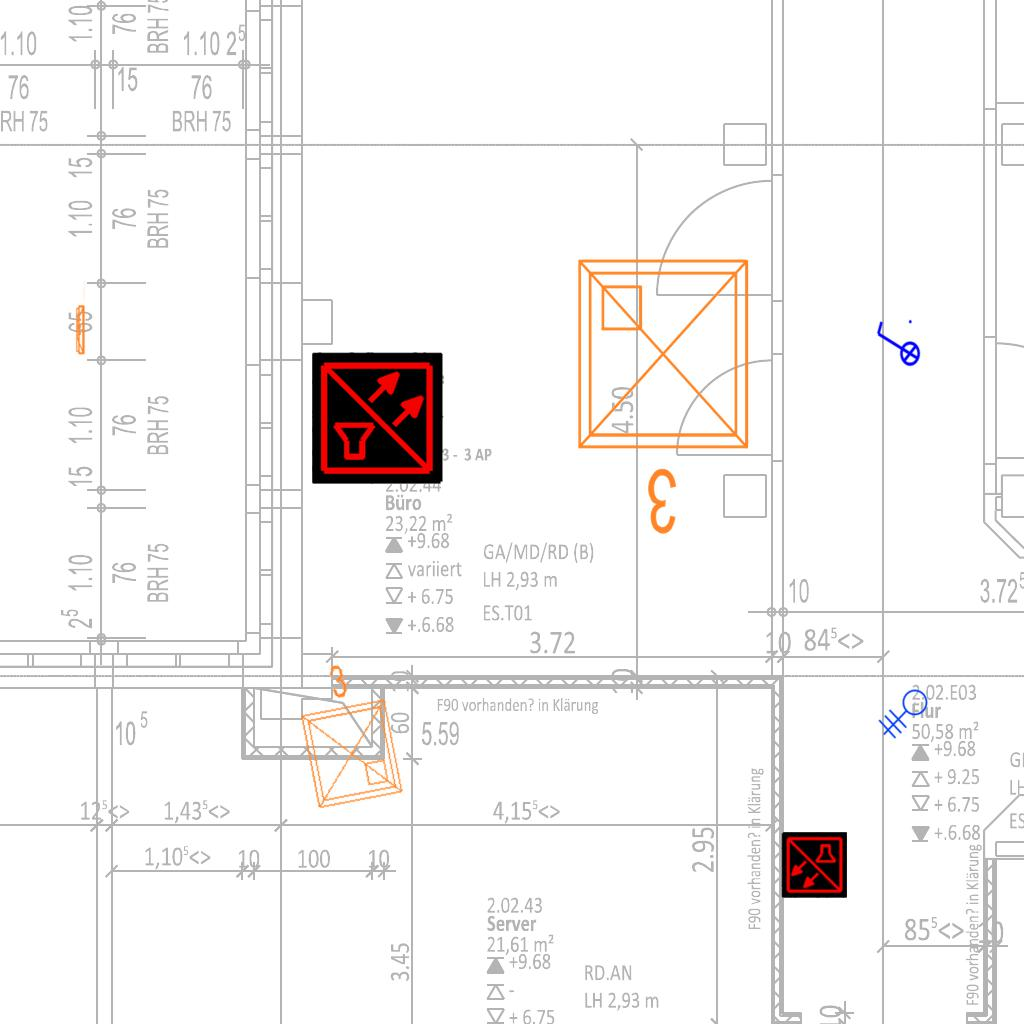Ausschalter_beleuchtet: (873, 317, 921, 373)
Einbaudownlights_LED_Konferenzraeume: (563, 245, 771, 545), (280, 650, 412, 818)
Elektroanschluss_allgemein_400V_Geraeteanschlussdose_400V: (878, 689, 936, 745)
OKW_Multisensormelder_(Kombination_optischer_Rauch-Kahlenmonoxid_Waerme-Melder): (312, 352, 444, 484), (781, 832, 847, 898)
Sicherheitsleuchte_Wandeinbau: (74, 278, 86, 357)
